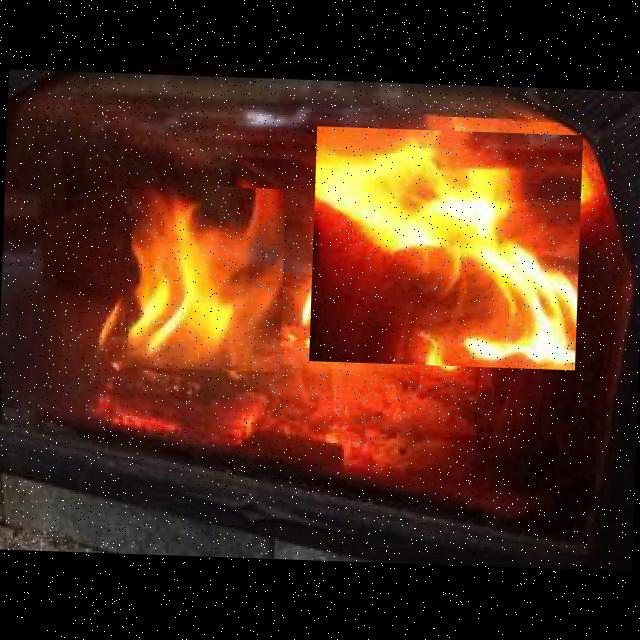fire: (308, 126, 582, 370), (127, 184, 286, 372)
